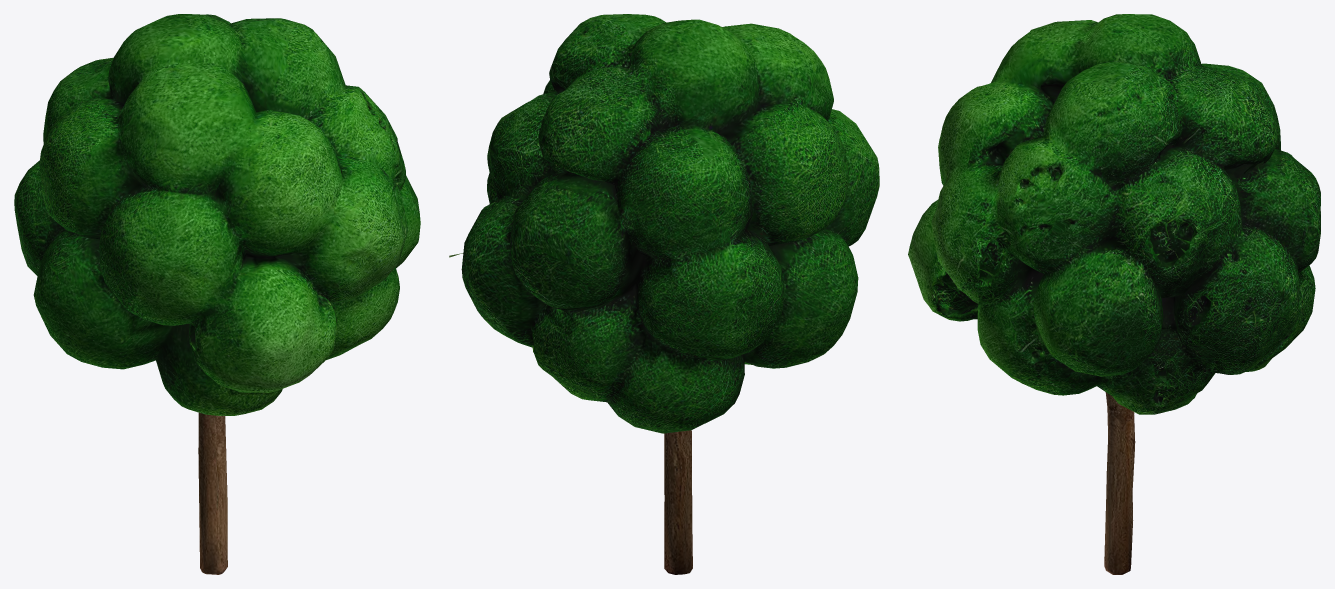
File: roundtree-4.glb
The picture shows the model from 3 angles, left to right: view 1: azimuth 30°, elevation 25°; view 2: azimuth 150°, elevation 25°; view 3: azimuth 270°, elevation 25°; orthographic projection. The views are drawn at different scales.
Visible parts, largest first — view 1: tripo_node_11bd9220-adcc-4d2a-806b-a9b0274c9464; view 2: tripo_node_11bd9220-adcc-4d2a-806b-a9b0274c9464; view 3: tripo_node_11bd9220-adcc-4d2a-806b-a9b0274c9464.
Boxes of the visible parts, left/top/right/bottom form: tripo_node_11bd9220-adcc-4d2a-806b-a9b0274c9464: left=14, top=14, right=420, bottom=574; tripo_node_11bd9220-adcc-4d2a-806b-a9b0274c9464: left=449, top=14, right=879, bottom=574; tripo_node_11bd9220-adcc-4d2a-806b-a9b0274c9464: left=908, top=14, right=1320, bottom=574.
Size of the model in its own units: 0.6853 by 0.9997 by 0.6922.
Materials: 1 (1 with a texture image).
